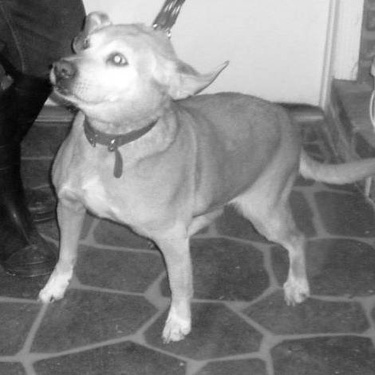dog: (26, 3, 371, 342)
